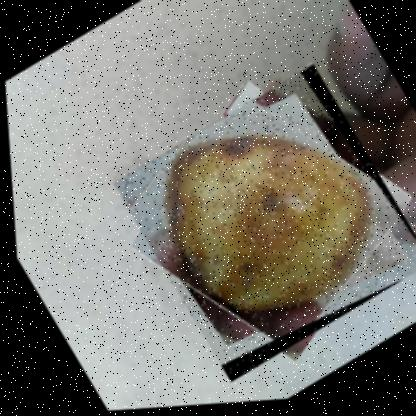guava_rotten: (101, 58, 415, 390)
